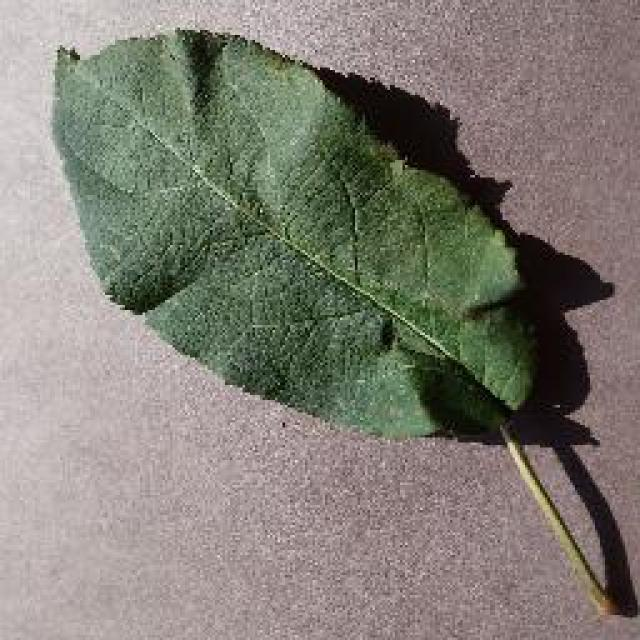apple healthy: (48, 22, 638, 620)
